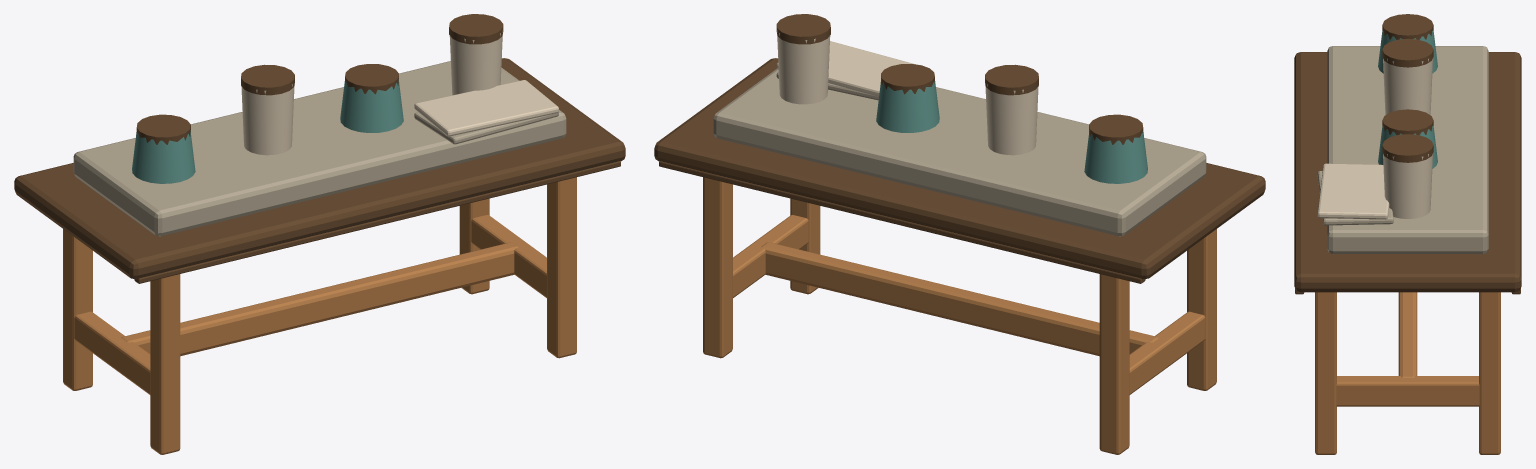
File: terrune_studio.glb
3 renders of one model, left to right at view 1: azimuth 30°, elevation 25°; view 2: azimuth 150°, elevation 25°; view 3: azimuth 270°, elevation 25°, orthographic. The views are drawn at different scales.
Parts seen in each view (by area): view 1: terrune_studio; view 2: terrune_studio; view 3: terrune_studio.
Part boxes in pixels (<box>): terrune_studio: <box>14,14,625,454</box>; terrune_studio: <box>654,14,1265,454</box>; terrune_studio: <box>1294,14,1521,454</box>.
Bounding box in the file's own units: 1.7 × 1 × 0.72.
